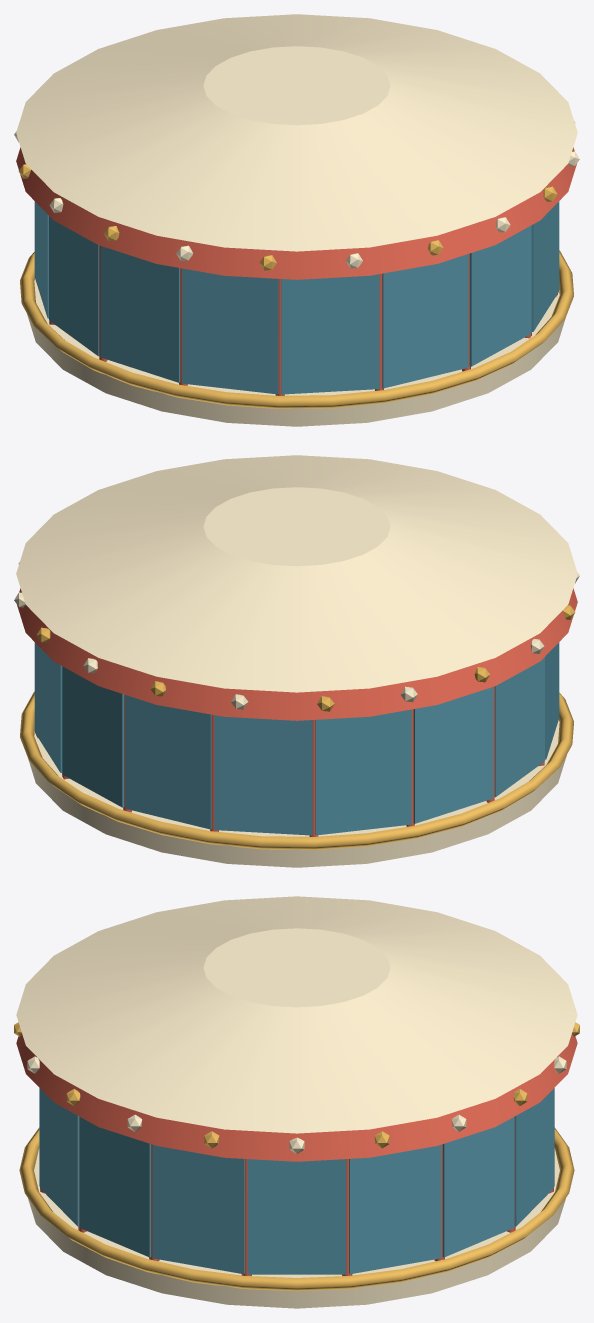
The model's file is ride_obs_motion.glb.
3 renders of one model, top to bottom at view 1: azimuth 30°, elevation 25°; view 2: azimuth 150°, elevation 25°; view 3: azimuth 270°, elevation 25°, orthographic.
Visible parts, largest first — view 1: ride_obs_motion; view 2: ride_obs_motion; view 3: ride_obs_motion.
Part boxes in pixels (x1,y1,x2,y2): ride_obs_motion: (14, 14, 579, 426); ride_obs_motion: (14, 455, 579, 867); ride_obs_motion: (14, 896, 579, 1308).
Size of the model in its own units: 5.44 by 2.41 by 5.44.
